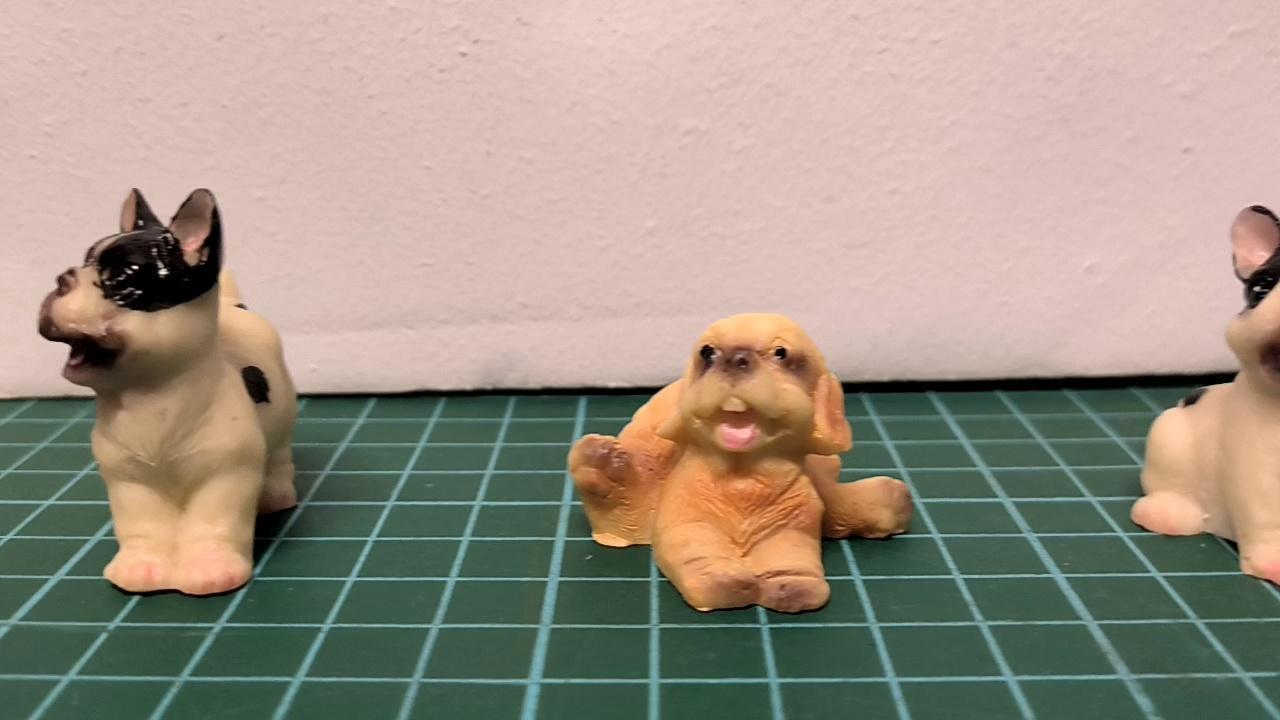pet: (31, 181, 307, 599), (567, 310, 917, 620)
